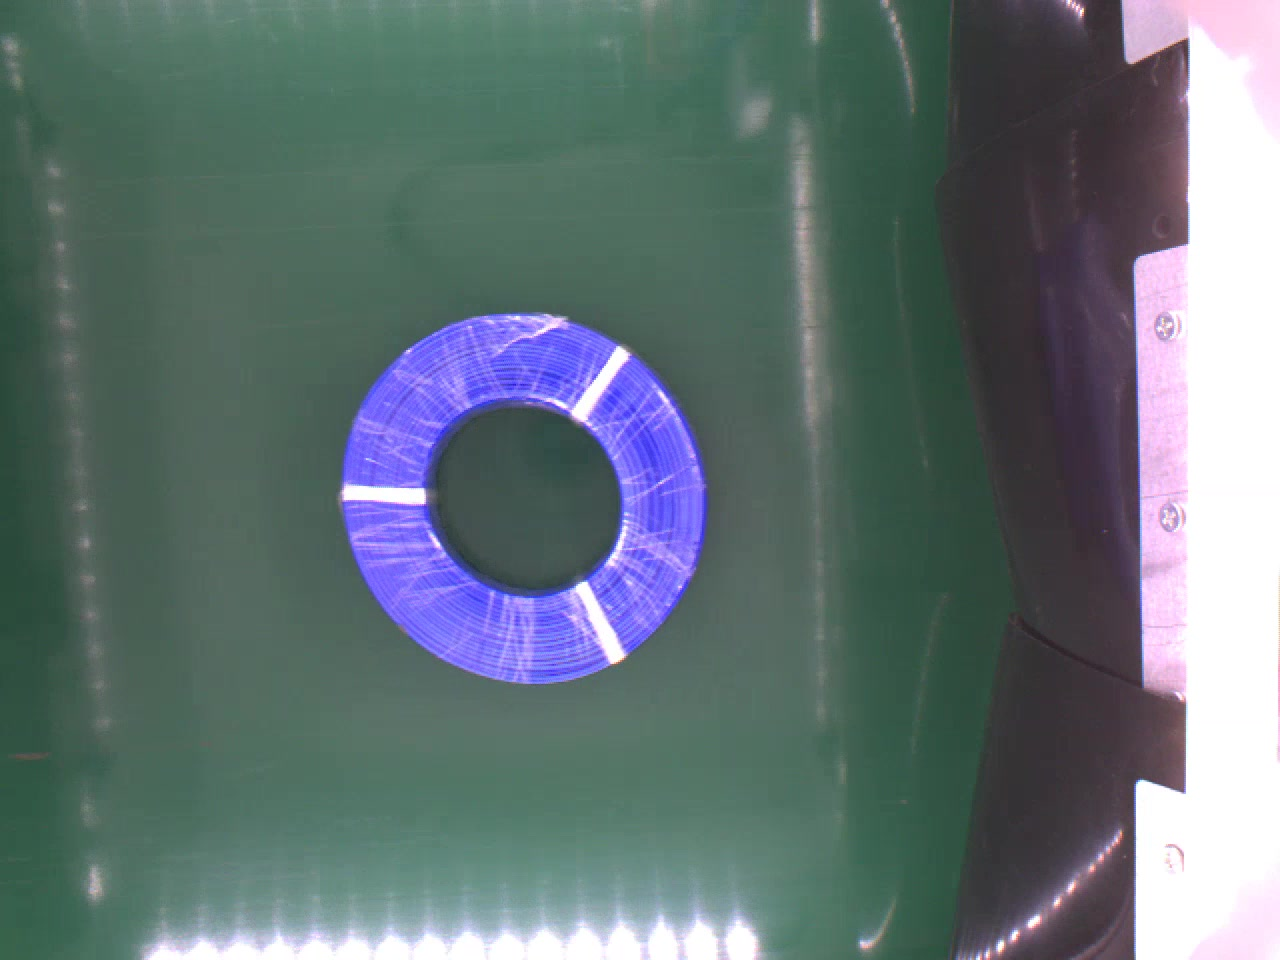blue: (322, 303, 705, 687)
